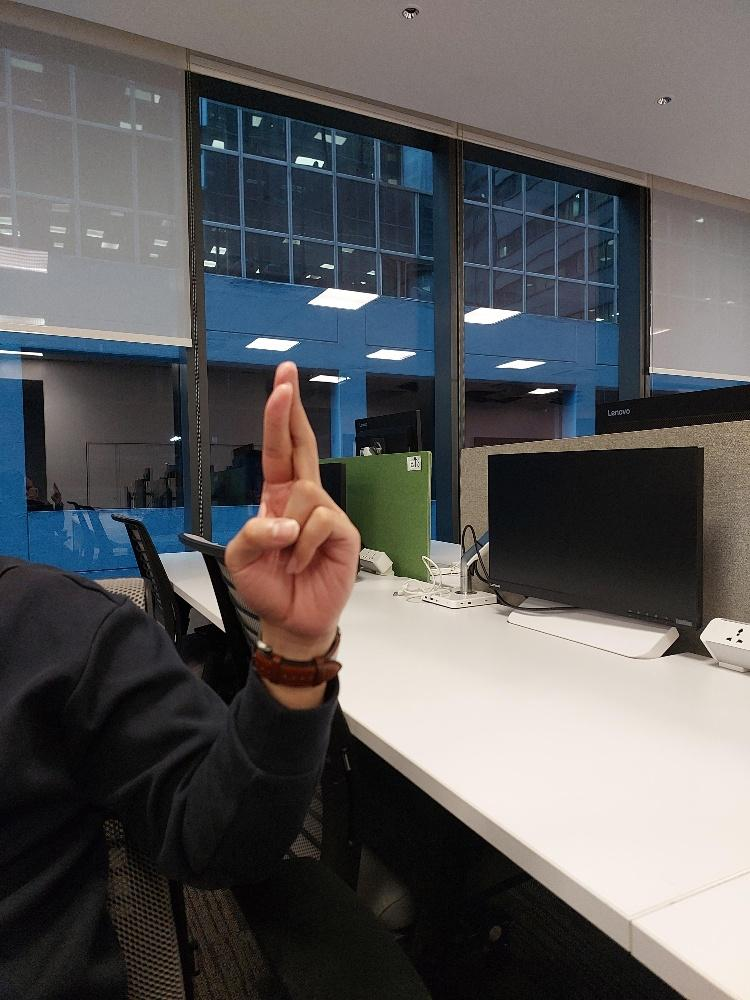r: (223, 359, 360, 633)
